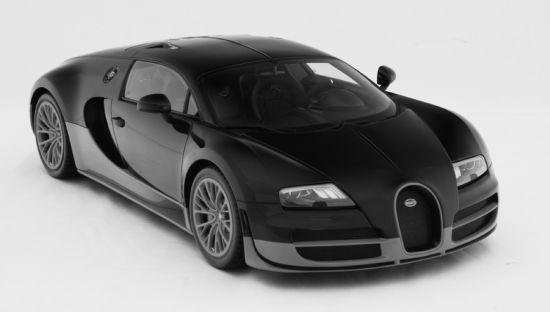car: (33, 35, 502, 275)
